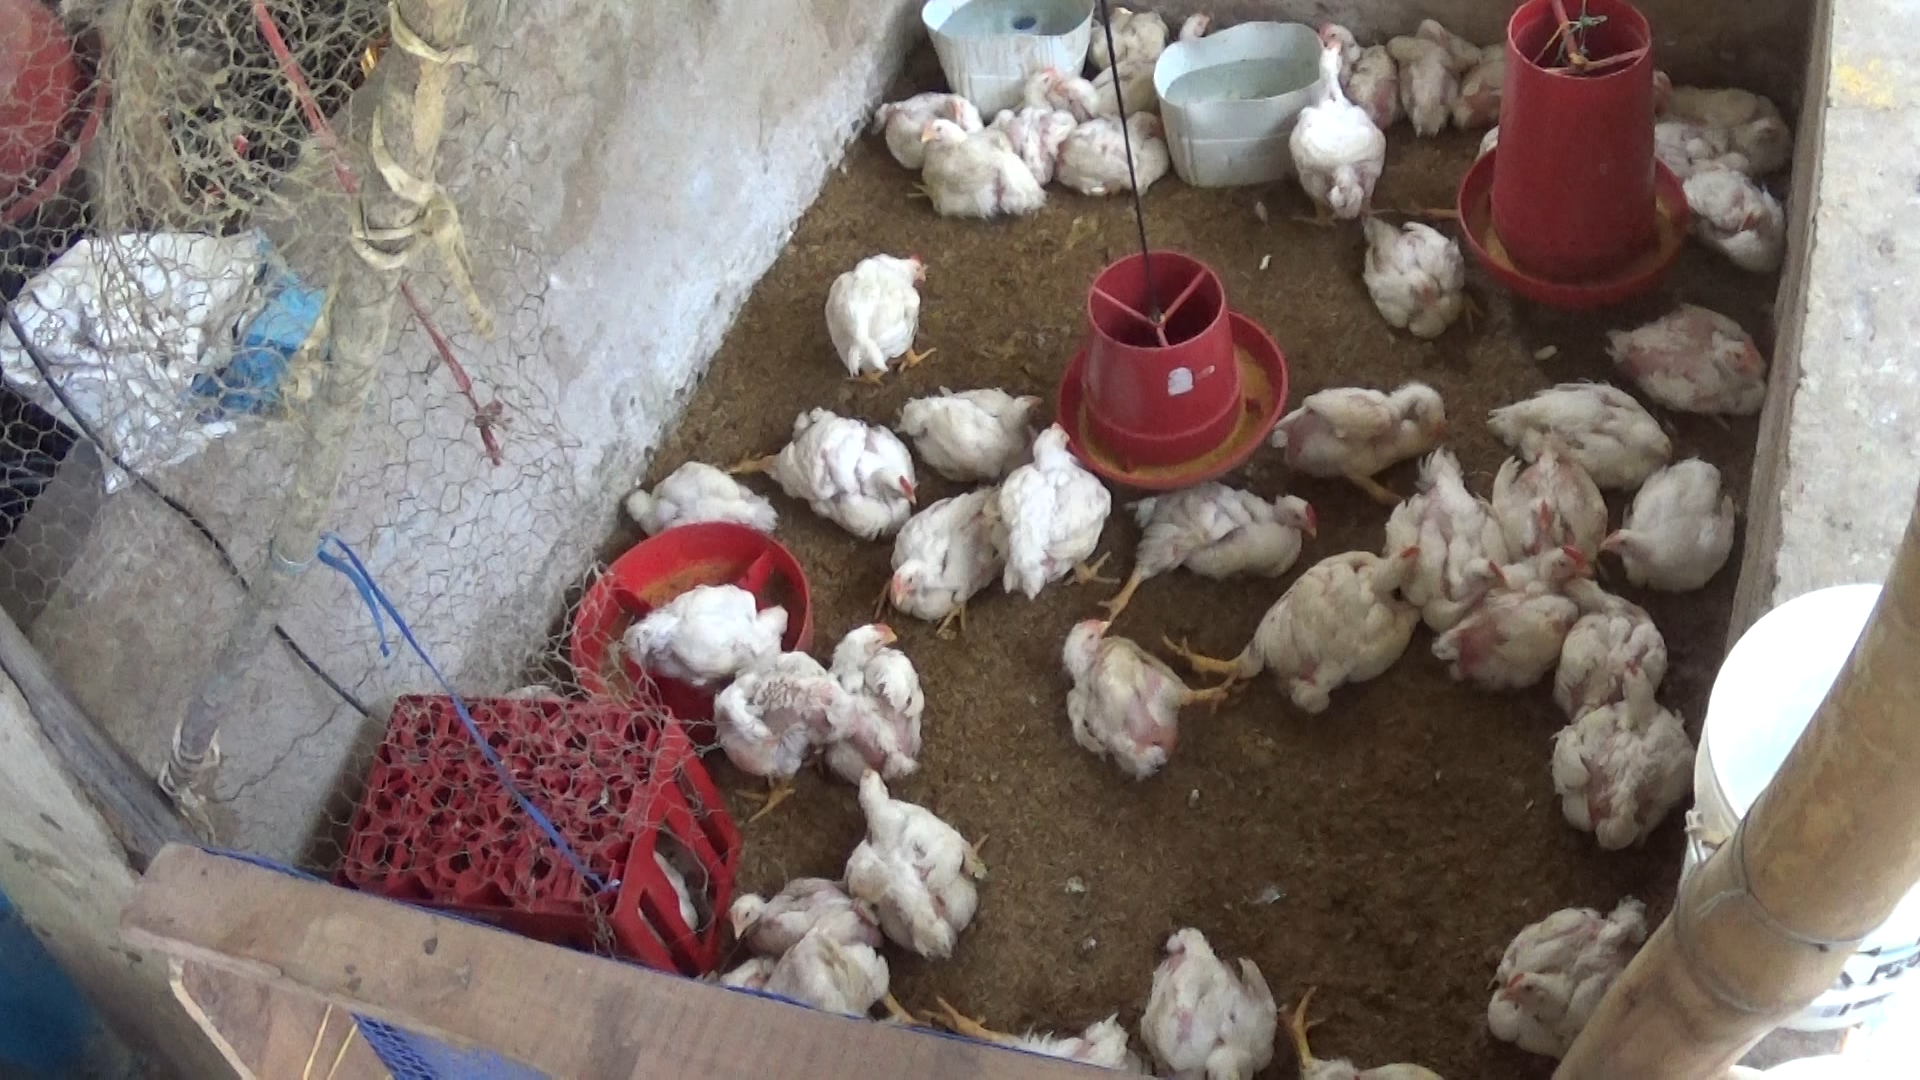Pollos: (1163, 541, 1429, 711), (1054, 611, 1242, 778), (1096, 483, 1325, 617), (1542, 658, 1696, 855), (719, 401, 918, 549), (836, 764, 990, 948), (702, 649, 869, 811), (1477, 898, 1654, 1048), (1133, 909, 1286, 1069), (1480, 375, 1673, 501), (1270, 371, 1455, 498), (1431, 549, 1596, 687), (1600, 291, 1774, 419), (810, 616, 940, 786), (866, 492, 1019, 636), (1387, 446, 1513, 621), (994, 417, 1116, 593), (1284, 34, 1390, 232), (712, 924, 911, 1027), (815, 241, 951, 389), (617, 582, 794, 687), (1607, 456, 1735, 588), (1356, 214, 1480, 345), (613, 462, 781, 555), (1560, 574, 1667, 719), (899, 375, 1044, 480), (909, 113, 1047, 222), (1501, 439, 1611, 567), (1680, 162, 1787, 276), (1050, 120, 1175, 203), (1673, 76, 1792, 164), (1379, 17, 1461, 138), (723, 877, 870, 942), (981, 63, 1071, 166), (1319, 9, 1399, 117), (881, 82, 971, 171), (1106, 7, 1216, 65), (1048, 63, 1158, 115), (1636, 63, 1680, 99)
